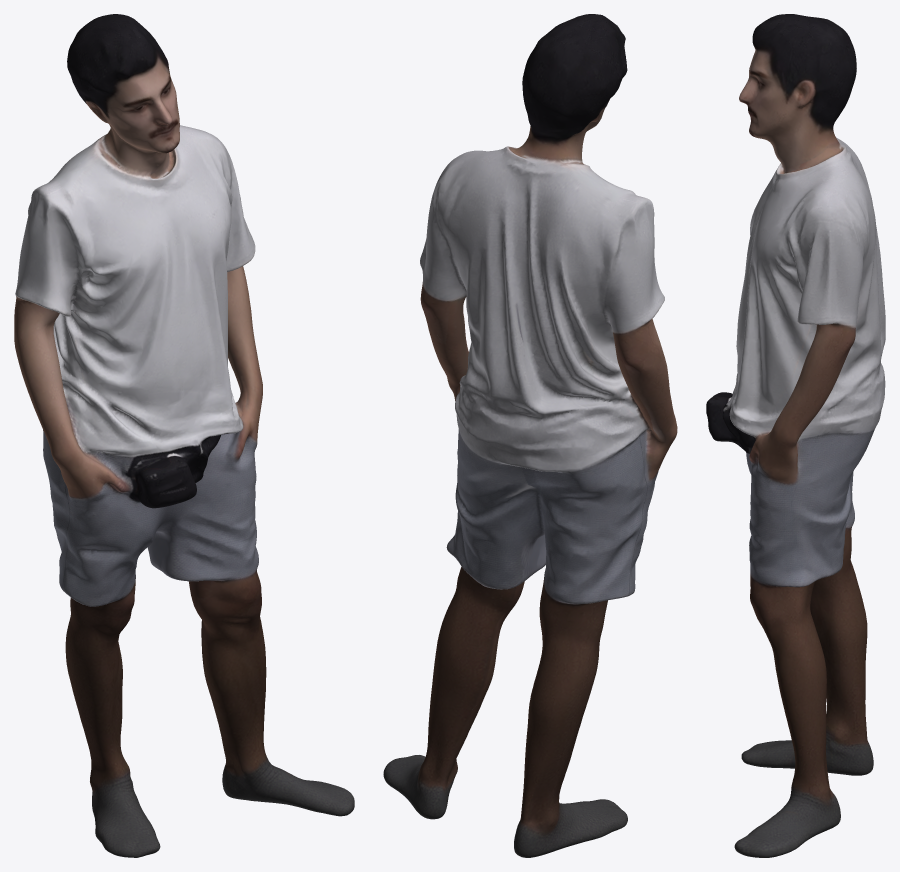
The model's file is Meshy_AI_Quiet_Room_Portrait_20261102_texture.fbx.
3 renders of one model, left to right at view 1: azimuth 30°, elevation 25°; view 2: azimuth 150°, elevation 25°; view 3: azimuth 270°, elevation 25°, orthographic. The views are drawn at different scales.
Visible parts, largest first — view 1: Mesh_0; view 2: Mesh_0; view 3: Mesh_0.
Part boxes in pixels (x1,y1,x2,y2): Mesh_0: (14, 14, 354, 857); Mesh_0: (383, 14, 677, 857); Mesh_0: (706, 14, 885, 857).
Size of the model in its own units: 73.68 by 190 by 41.21.
1 material, 1 textured.
